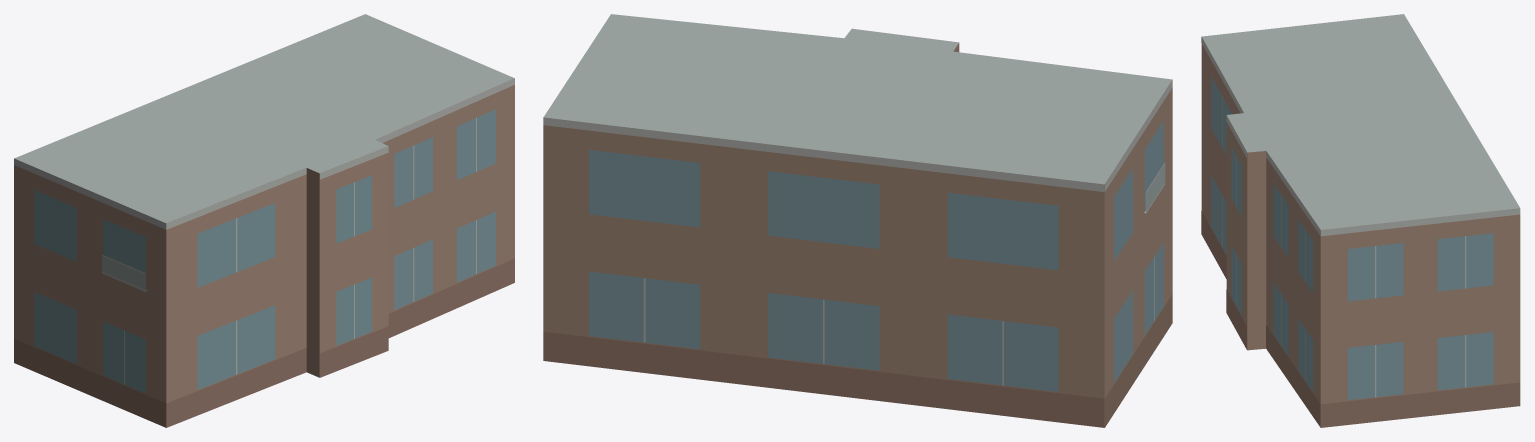
The model's file is survey-upis-32611859.glb.
3 views of the same model, side by side, from view 1: azimuth 30°, elevation 25°; view 2: azimuth 150°, elevation 25°; view 3: azimuth 270°, elevation 25° (orthographic). The views are drawn at different scales.
Visible parts, largest first — view 1: survey-upis-32611859.tmp; view 2: survey-upis-32611859.tmp; view 3: survey-upis-32611859.tmp.
Part boxes in pixels (box(x1,y1,x2,y2)): survey-upis-32611859.tmp: box(14, 14, 514, 427); survey-upis-32611859.tmp: box(543, 14, 1172, 427); survey-upis-32611859.tmp: box(1201, 14, 1520, 427).
Bounding box in the file's own units: 18.05 × 7.7 × 11.26.
